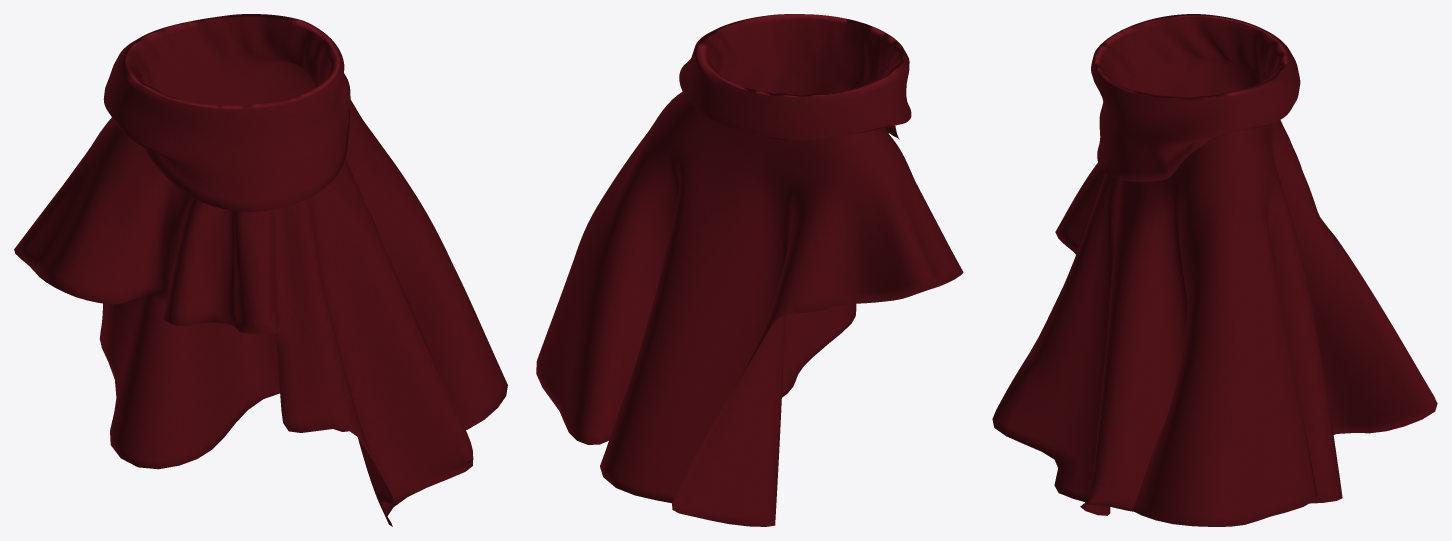
File: Halfcape Soft.fbx
3 views of the same model, side by side, from view 1: azimuth 30°, elevation 25°; view 2: azimuth 150°, elevation 25°; view 3: azimuth 270°, elevation 25° (orthographic). The views are drawn at different scales.
Visible parts, largest first — view 1: IMPORT; view 2: IMPORT; view 3: IMPORT.
Boxes of the visible parts, x1,y1,x2,y2 form: IMPORT: (14,14,507,526); IMPORT: (536,14,963,526); IMPORT: (992,14,1437,526).
Bounding box in the file's own units: 68.61 × 65.59 × 64.36.
Materials: 1 (1 with a texture image).
